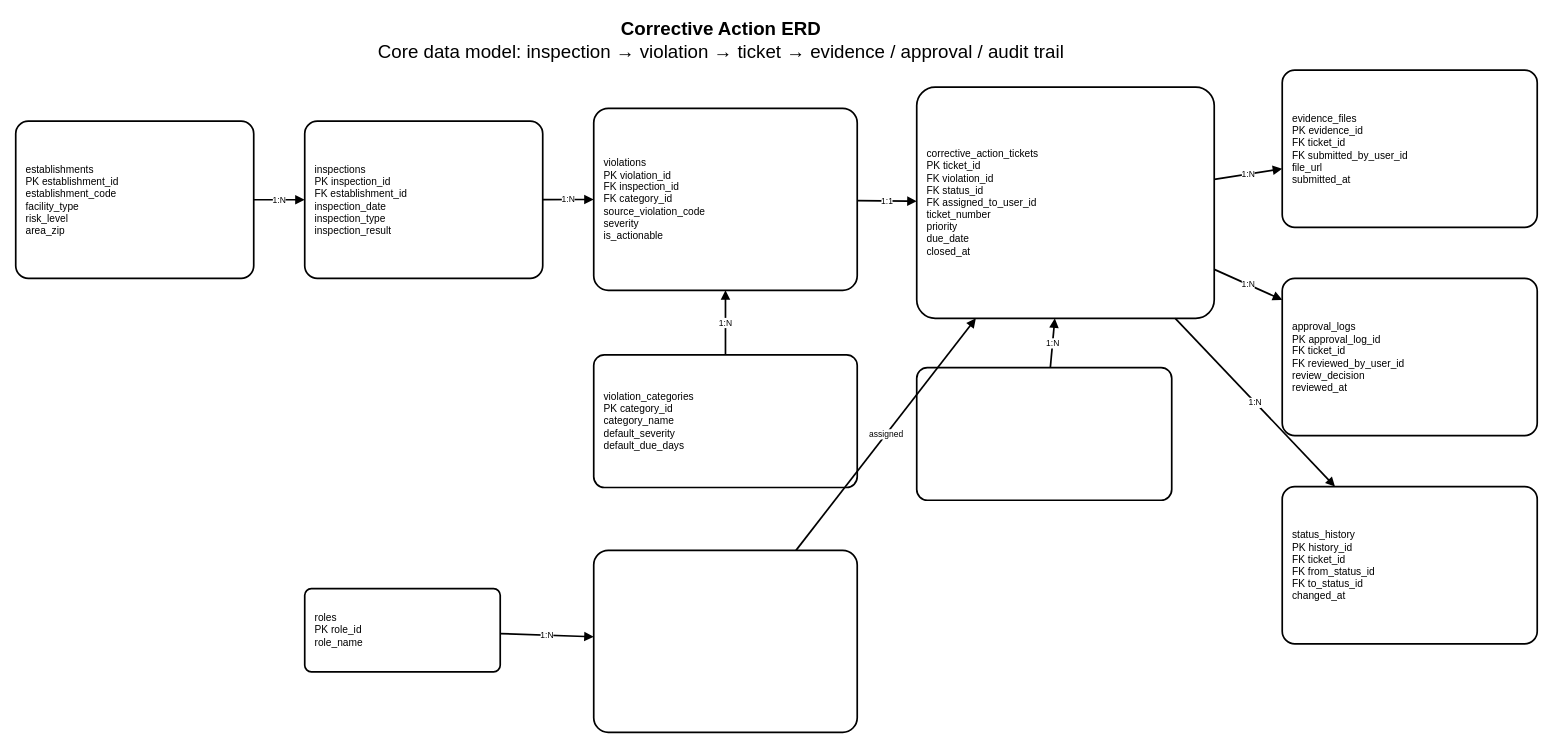
Image size: 1552x747. Some labels were removed from this diagram. The centre of each missing label's shape, as x and y in pixels:
ticket_statuses PK status_id status_name status_sequence is_terminal: the point at 1043,433
users PK user_id FK role_id FK establishment_id full_name email status: the point at 725,641
